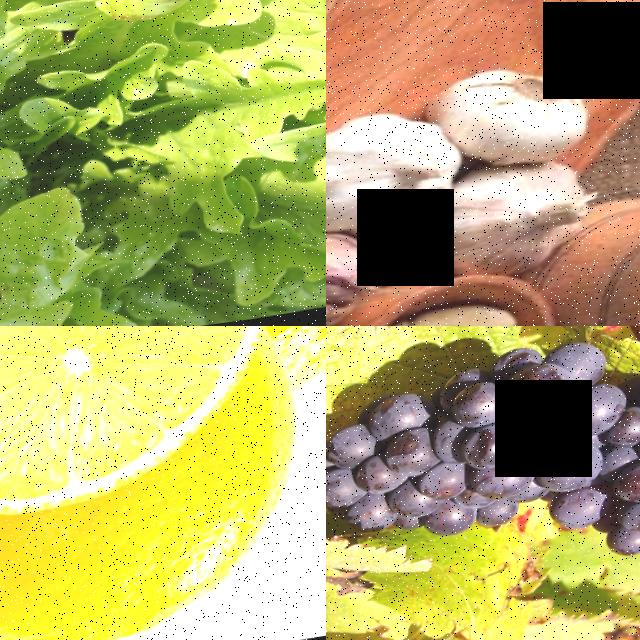garlic: (437, 169, 586, 291), (326, 109, 448, 252), (454, 67, 588, 185)
grapes: (326, 328, 640, 610)
lemon: (0, 472, 312, 640), (0, 326, 216, 538)
lettuce: (0, 17, 326, 326), (0, 0, 326, 121)
